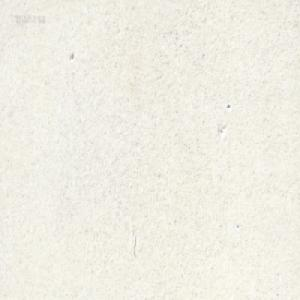Wrench: (137, 0, 143, 4)
